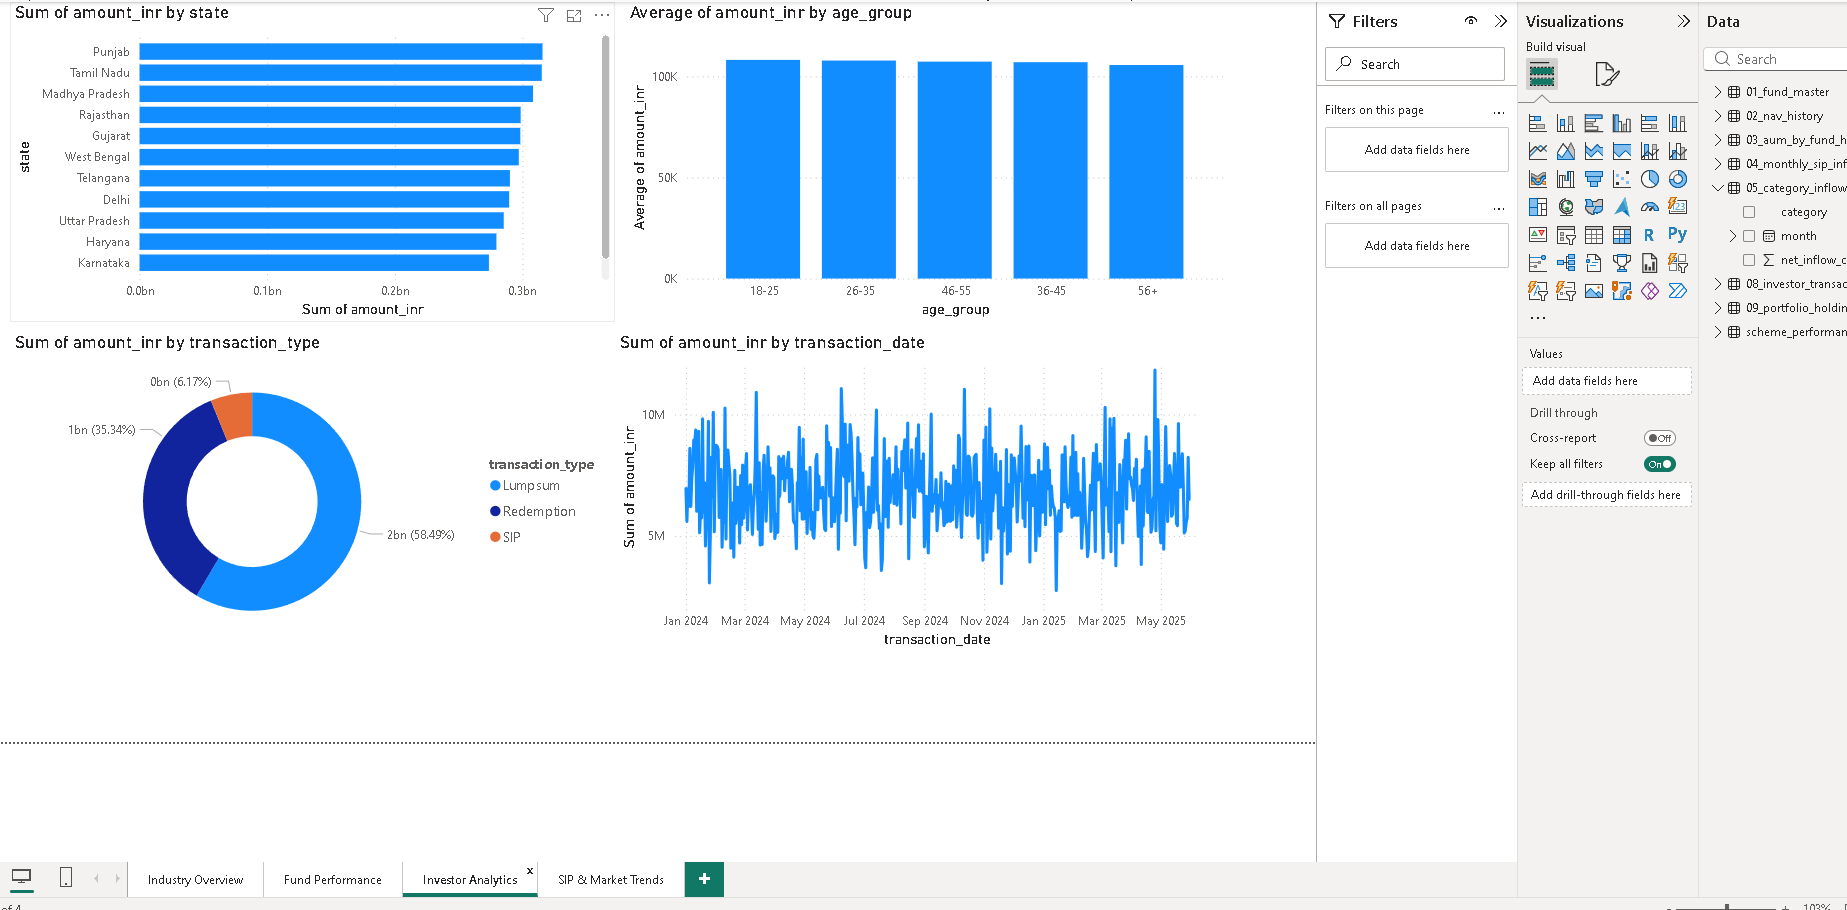

The dashboard page shown, as its layout file describes it:
{"tool":"powerbi","page":{"name":"Investor Analytics","canvas":[1280,720],"ordinal":2},"visuals":[{"type":"clusteredBarChart","fields":{"Category":["08_investor_transactions.state"],"Y":["Sum(08_investor_transactions.amount_inr)"]},"box":[9.7,0,588.4,311.2],"z":0},{"type":"donutChart","fields":{"Category":["08_investor_transactions.transaction_type"],"Y":["Sum(08_investor_transactions.amount_inr)"]},"box":[10,321,588,311],"z":1000},{"type":"lineClusteredColumnComboChart","fields":{"Category":["08_investor_transactions.age_group"],"Y":["Avg(08_investor_transactions.amount_inr)"]},"box":[608,0,588,311],"z":2000},{"type":"lineChart","fields":{"Y":["Sum(08_investor_transactions.amount_inr)"],"Category":["08_investor_transactions.transaction_date"]},"box":[598.2,321,588.4,311.2],"z":3000}]}

Visuals, with their boxes on the page's 1280x720 design canvas (x1, y1, x2, y2). These are canvas units, not pixel positions in the 1847x910 screenshot, which may show the page scaled, cropped or inside an application window:
clusteredBarChart - 08_investor_transactions.state x Sum(08_investor_transactions.amount_inr): box(10, 0, 598, 311)
donutChart - 08_investor_transactions.transaction_type x Sum(08_investor_transactions.amount_inr): box(10, 321, 598, 632)
lineClusteredColumnComboChart - 08_investor_transactions.age_group x Avg(08_investor_transactions.amount_inr): box(608, 0, 1196, 311)
lineChart - Sum(08_investor_transactions.amount_inr) x 08_investor_transactions.transaction_date: box(598, 321, 1187, 632)
